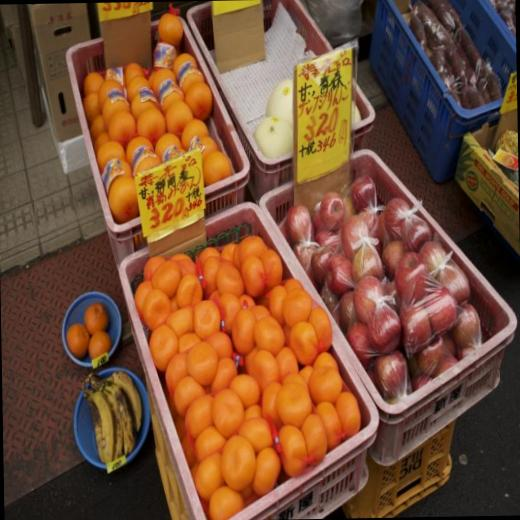Grape: (220, 430, 258, 492), (187, 328, 221, 382), (301, 410, 330, 466), (150, 318, 174, 382), (192, 452, 224, 500), (305, 402, 341, 444), (280, 426, 308, 477), (150, 260, 175, 317), (112, 176, 141, 225), (332, 389, 360, 438), (207, 483, 244, 520), (277, 383, 312, 421), (200, 144, 232, 184), (173, 374, 206, 412), (191, 297, 220, 340), (309, 365, 342, 400), (218, 264, 248, 302), (254, 447, 278, 493), (238, 255, 264, 297), (290, 326, 318, 365), (242, 414, 274, 447), (212, 394, 240, 431), (184, 81, 211, 119), (184, 395, 208, 437), (109, 111, 140, 143), (144, 288, 170, 326), (284, 294, 310, 332), (229, 370, 258, 404), (232, 304, 251, 355), (98, 138, 130, 165), (166, 100, 191, 134), (216, 344, 240, 379), (267, 282, 290, 318), (218, 295, 240, 332), (258, 316, 285, 346), (196, 422, 219, 456), (197, 257, 216, 298), (67, 321, 89, 355), (314, 308, 336, 342), (180, 71, 205, 100), (164, 354, 183, 392), (86, 304, 110, 334), (175, 302, 196, 336), (259, 252, 280, 286), (273, 351, 296, 382), (131, 152, 158, 178), (100, 90, 124, 119), (236, 232, 260, 261), (100, 79, 124, 106), (175, 274, 196, 304), (259, 350, 274, 392), (87, 330, 109, 358), (153, 130, 175, 158), (142, 111, 164, 137), (128, 90, 152, 112), (210, 332, 232, 356), (182, 124, 204, 146), (130, 74, 148, 98), (176, 52, 192, 79), (172, 254, 190, 275), (200, 244, 218, 264), (222, 246, 236, 271), (154, 67, 171, 86), (312, 351, 336, 363), (125, 64, 140, 80), (288, 276, 300, 290)
